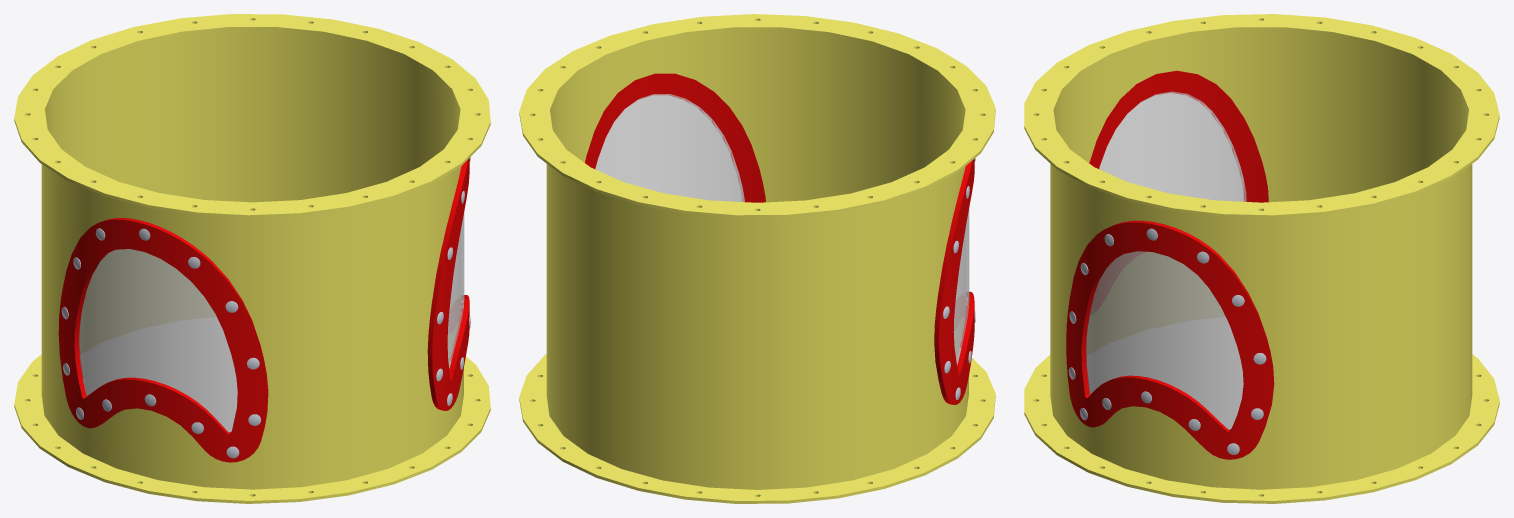
The model's file is Straight-59-window.fbx.
3 renders of one model, left to right at view 1: azimuth 30°, elevation 25°; view 2: azimuth 150°, elevation 25°; view 3: azimuth 270°, elevation 25°, orthographic.
Parts seen in each view (by area): view 1: rør-lige-590-vindow-detailed; view 2: rør-lige-590-vindow-detailed; view 3: rør-lige-590-vindow-detailed.
Boxes of the visible parts, bbox=[...] form: rør-lige-590-vindow-detailed: bbox=[14, 14, 490, 503]; rør-lige-590-vindow-detailed: bbox=[519, 14, 995, 503]; rør-lige-590-vindow-detailed: bbox=[1024, 14, 1499, 503].
Size of the model in its own units: 87.87 by 58.76 by 87.74.
